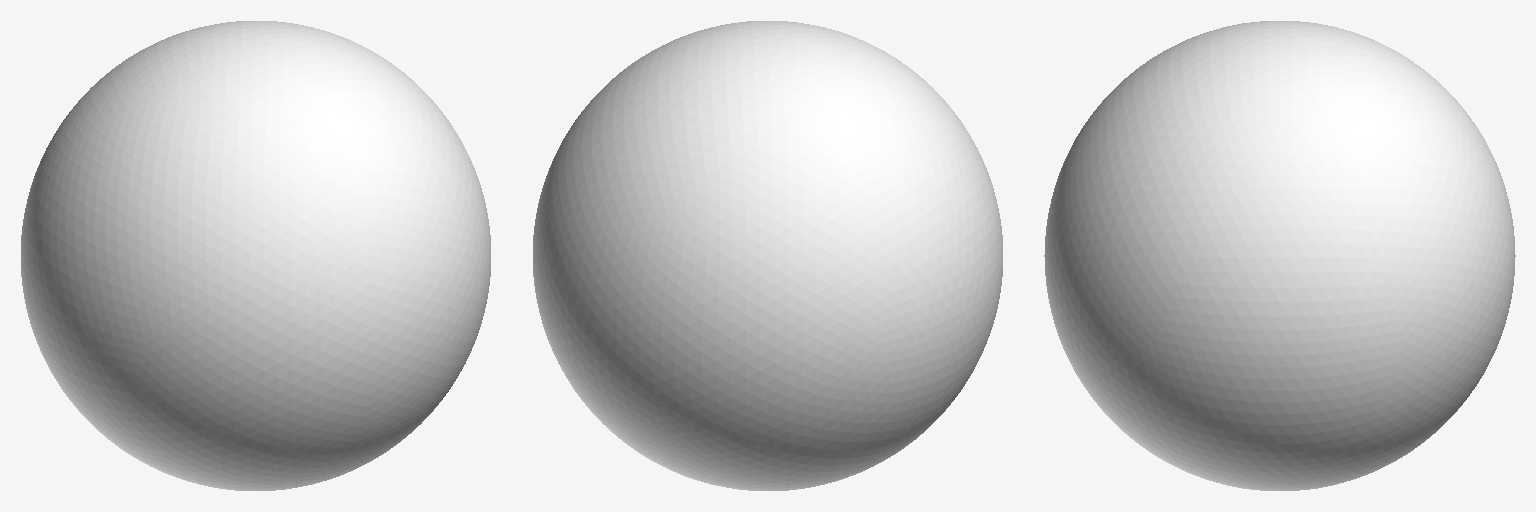
The model's file is earth.obj.
3 views of the same model, side by side, from view 1: azimuth 30°, elevation 25°; view 2: azimuth 150°, elevation 25°; view 3: azimuth 270°, elevation 25° (orthographic).
Parts seen in each view (by area): view 1: Sphere; view 2: Sphere; view 3: Sphere.
Boxes of the visible parts, box(x1,y1,x2,y2) form: Sphere: box(21, 21, 490, 490); Sphere: box(533, 21, 1002, 490); Sphere: box(1044, 21, 1515, 490).
Size of the model in its own units: 200 by 200 by 200.